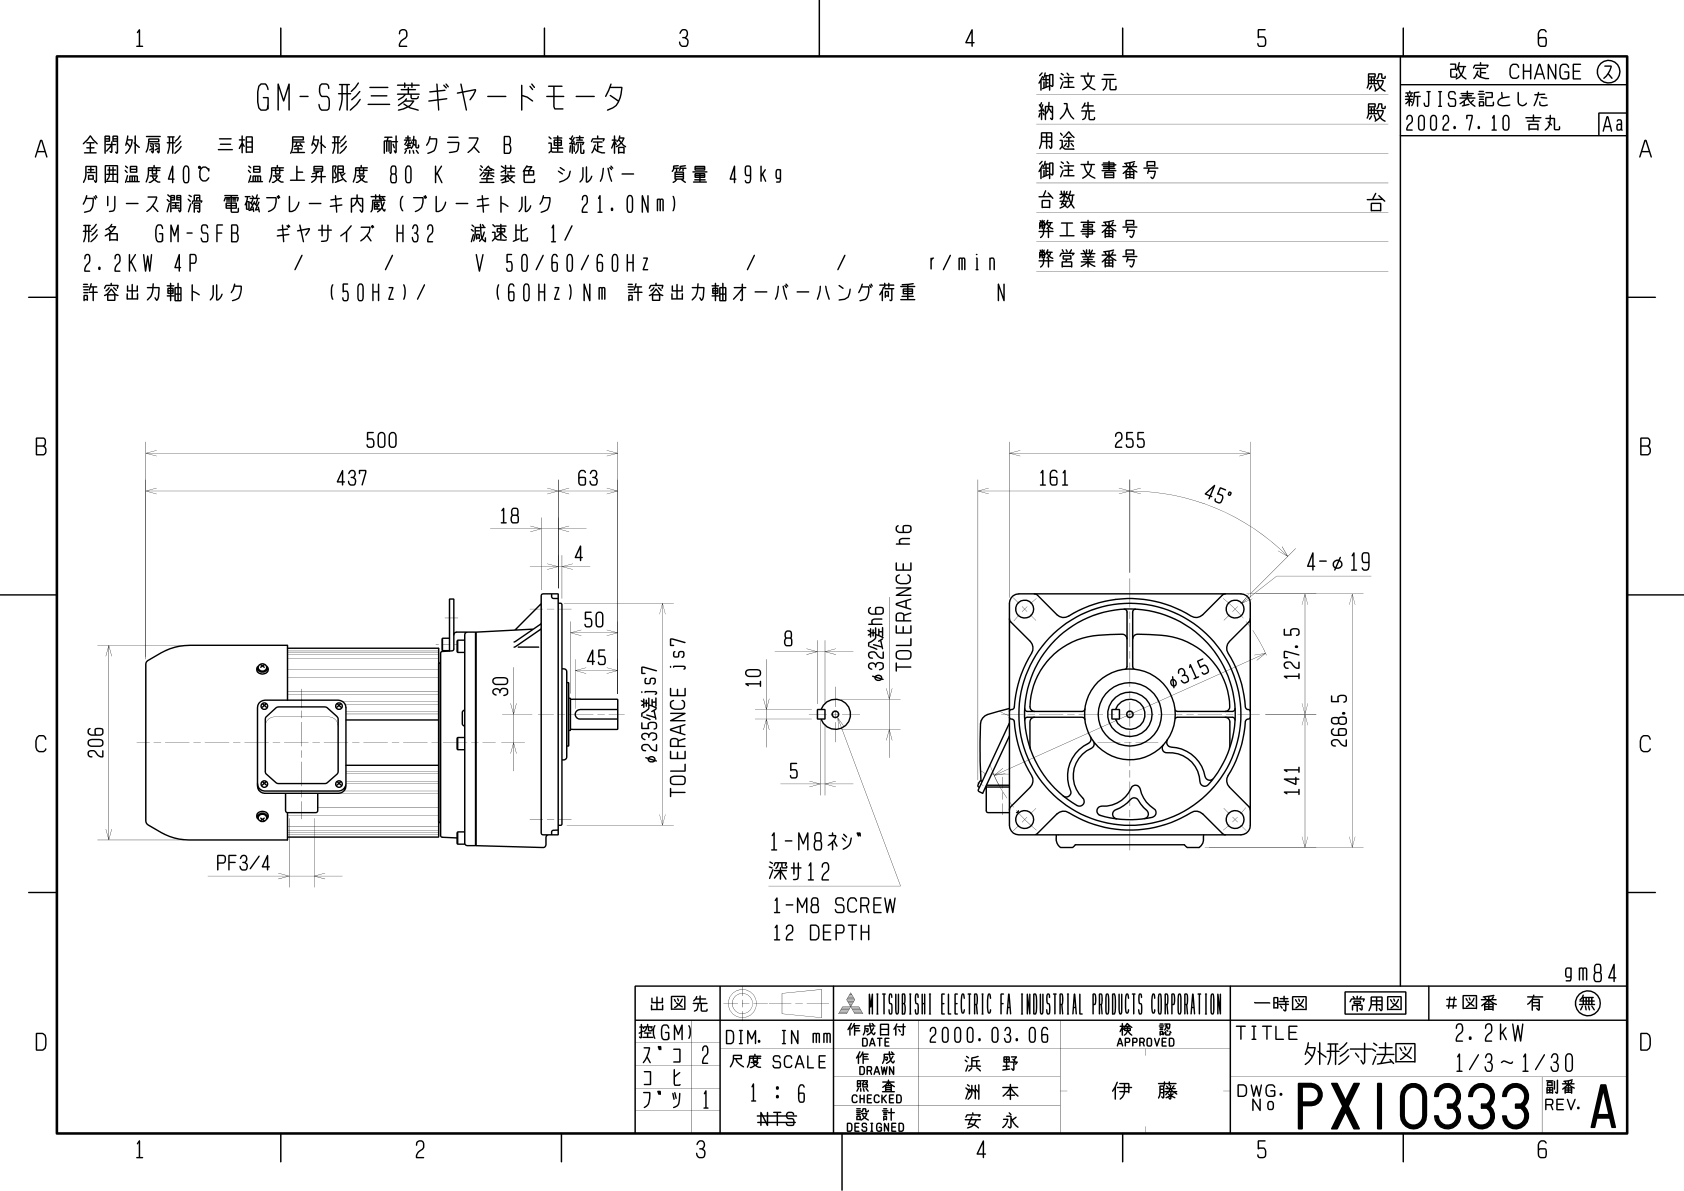GM_S_屋外＿三相_フランジ: (8, 6, 1684, 1191)
